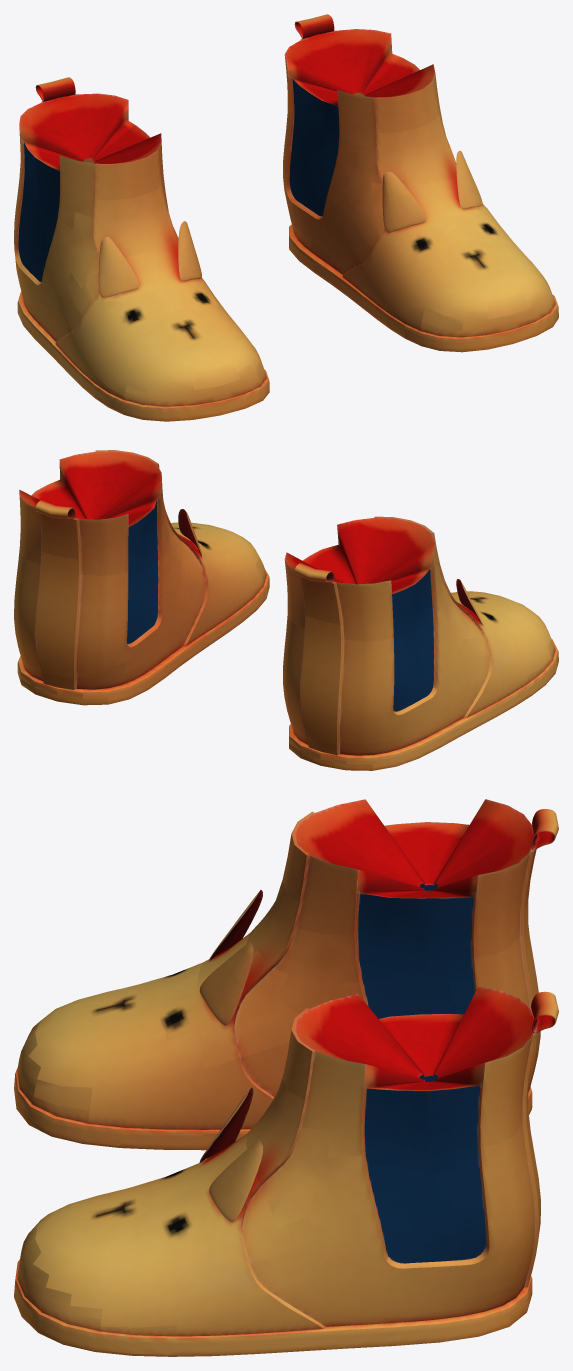
The model's file is shoes7.glb.
The picture shows the model from 3 angles, top to bottom: view 1: azimuth 30°, elevation 25°; view 2: azimuth 150°, elevation 25°; view 3: azimuth 270°, elevation 25°; orthographic projection. The views are drawn at different scales.
Parts seen in each view (by area): view 1: s4studio_mesh_1; view 2: s4studio_mesh_1; view 3: s4studio_mesh_1.
Part boxes in pixels (x1,y1,x2,y2): s4studio_mesh_1: [14, 14, 558, 421]; s4studio_mesh_1: [14, 450, 558, 770]; s4studio_mesh_1: [14, 799, 558, 1356].
Bounding box in the file's own units: 0.1814 × 0.0802 × 0.1347.
Materials: 1 (1 with a texture image).
